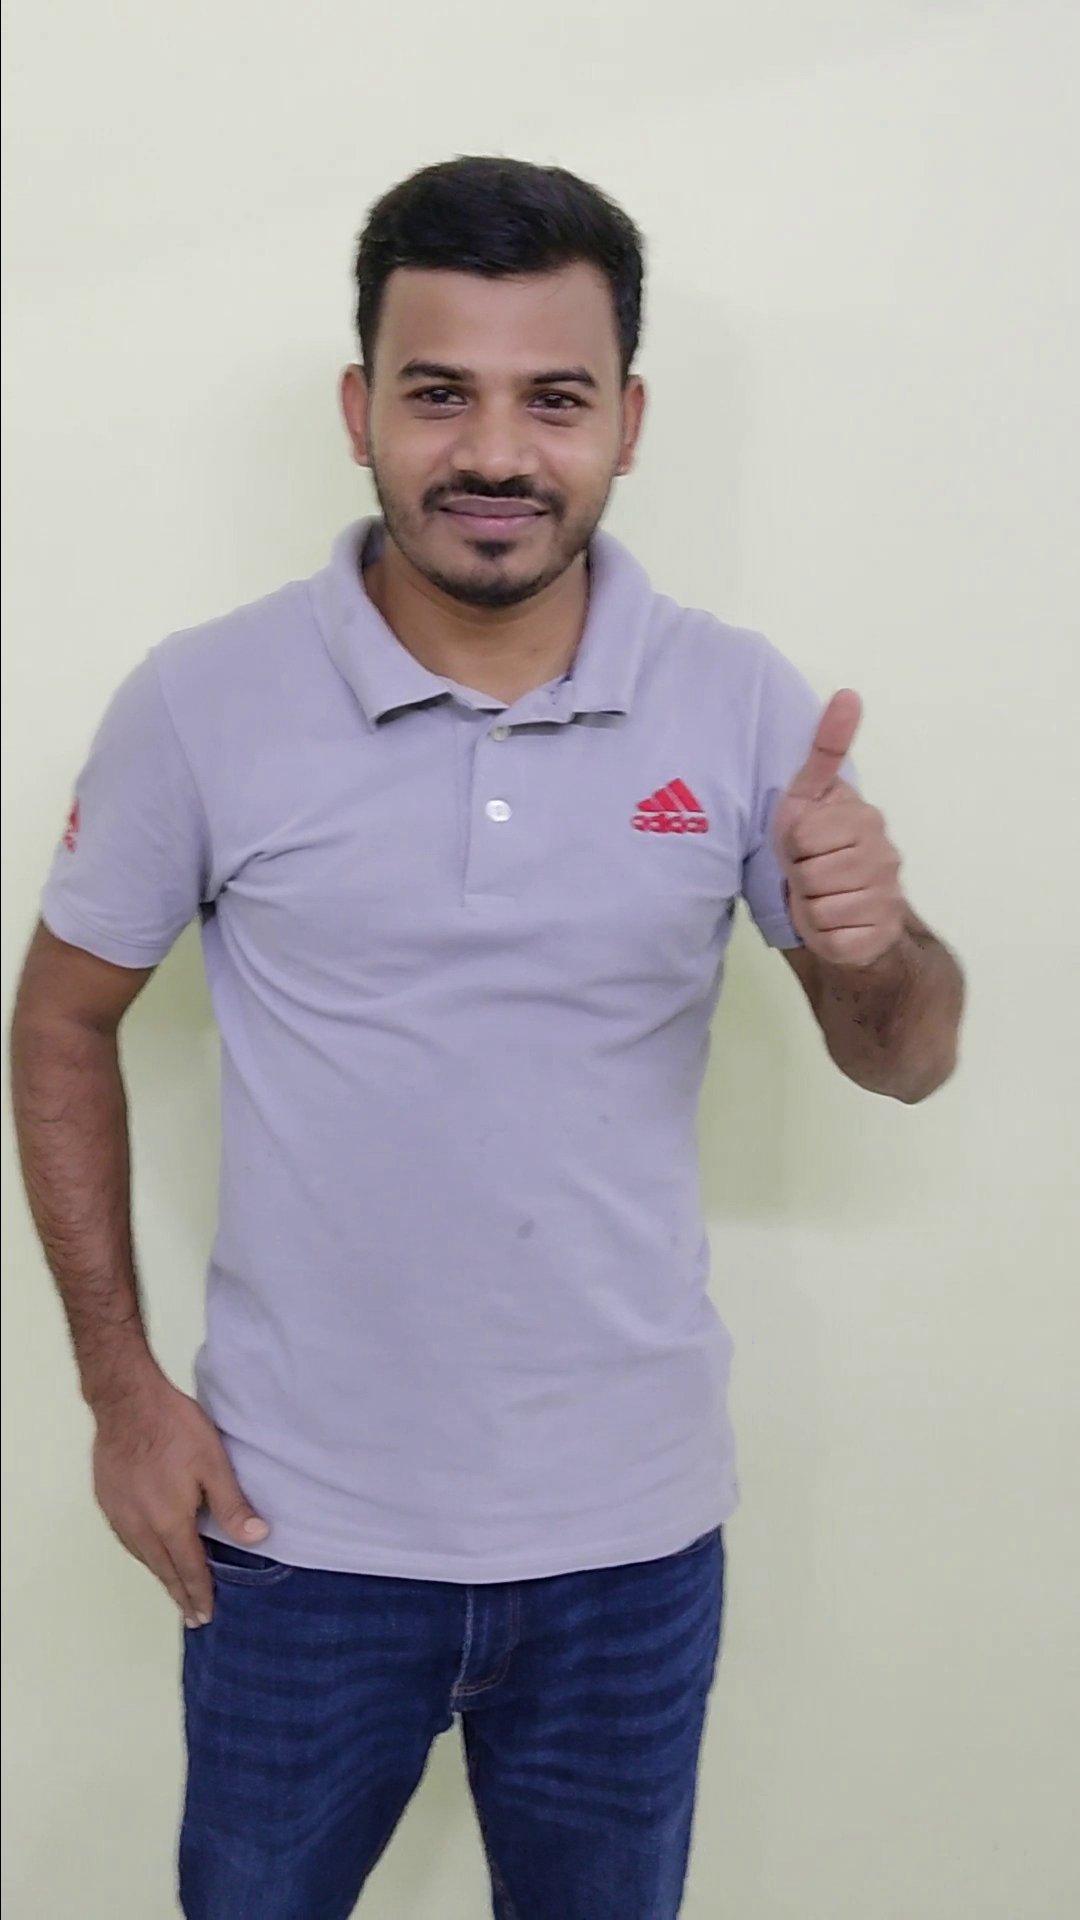Like: (723, 653, 947, 978)
None: (67, 1349, 284, 1640)
